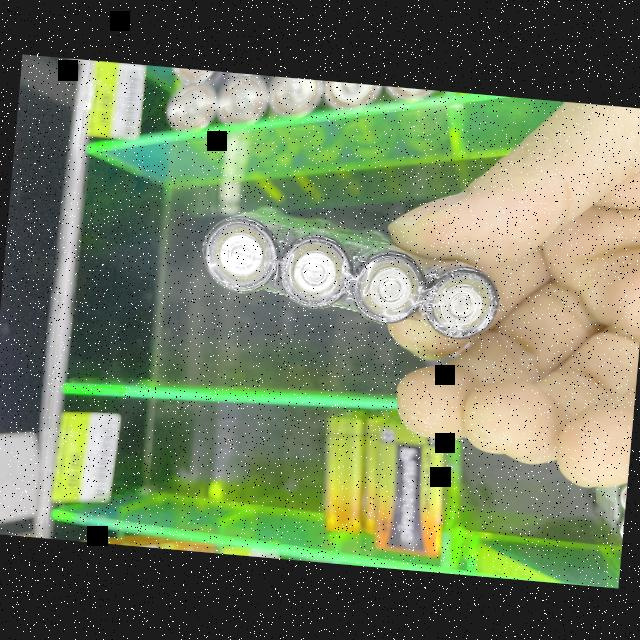battery: (201, 193, 302, 295), (350, 227, 430, 324), (278, 216, 360, 310), (418, 256, 497, 343)
